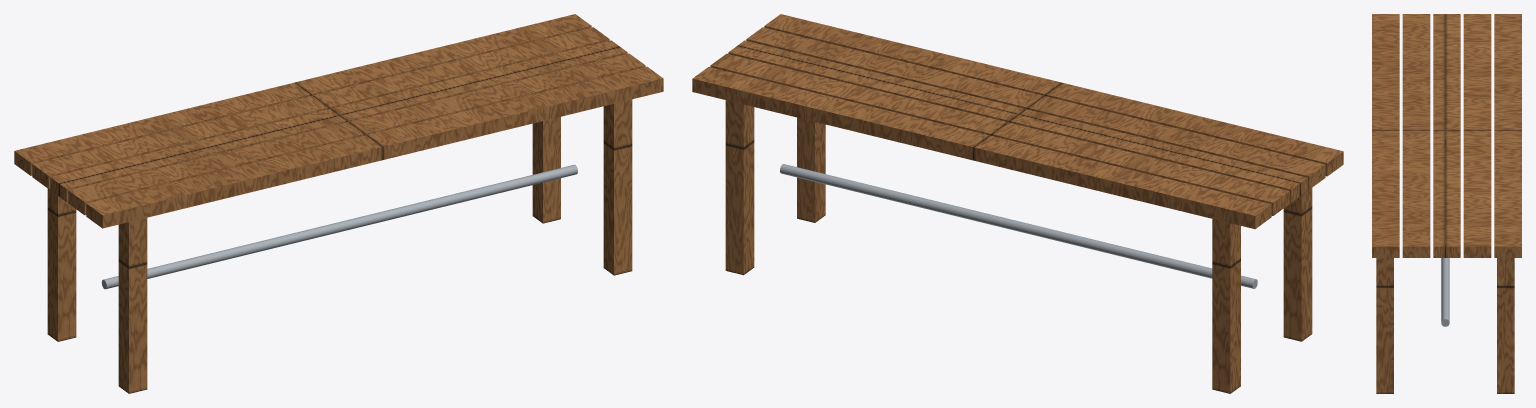
Rendered from Kerti_pad_tamla_nelkul.obj.
3 renders of one model, left to right at view 1: azimuth 30°, elevation 25°; view 2: azimuth 150°, elevation 25°; view 3: azimuth 270°, elevation 25°, orthographic. The views are drawn at different scales.
Size of the model in its own units: 1.55 by 0.495 by 0.4214.
2 materials, 1 textured.
